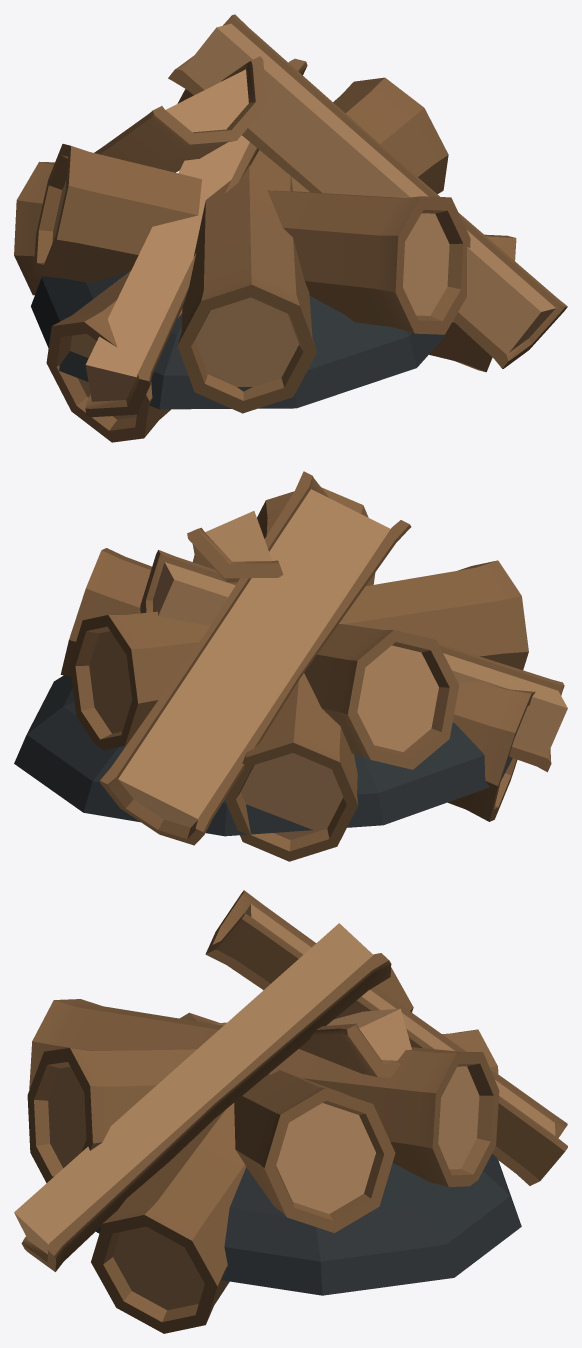
Rendered from Geo_CampfireFull.fbx.
3 views of the same model, one above another, from view 1: azimuth 30°, elevation 25°; view 2: azimuth 150°, elevation 25°; view 3: azimuth 270°, elevation 25° (orthographic). The views are drawn at different scales.
Visible parts, largest first — view 1: Campfire_Lit; view 2: Campfire_Lit; view 3: Campfire_Lit.
Part boxes in pixels (left/top/right/bottom): Campfire_Lit: left=14, top=14, right=567, bottom=442; Campfire_Lit: left=14, top=471, right=567, bottom=861; Campfire_Lit: left=14, top=890, right=567, bottom=1333.
Bounding box in the file's own units: 48.04 × 33.68 × 51.03.
